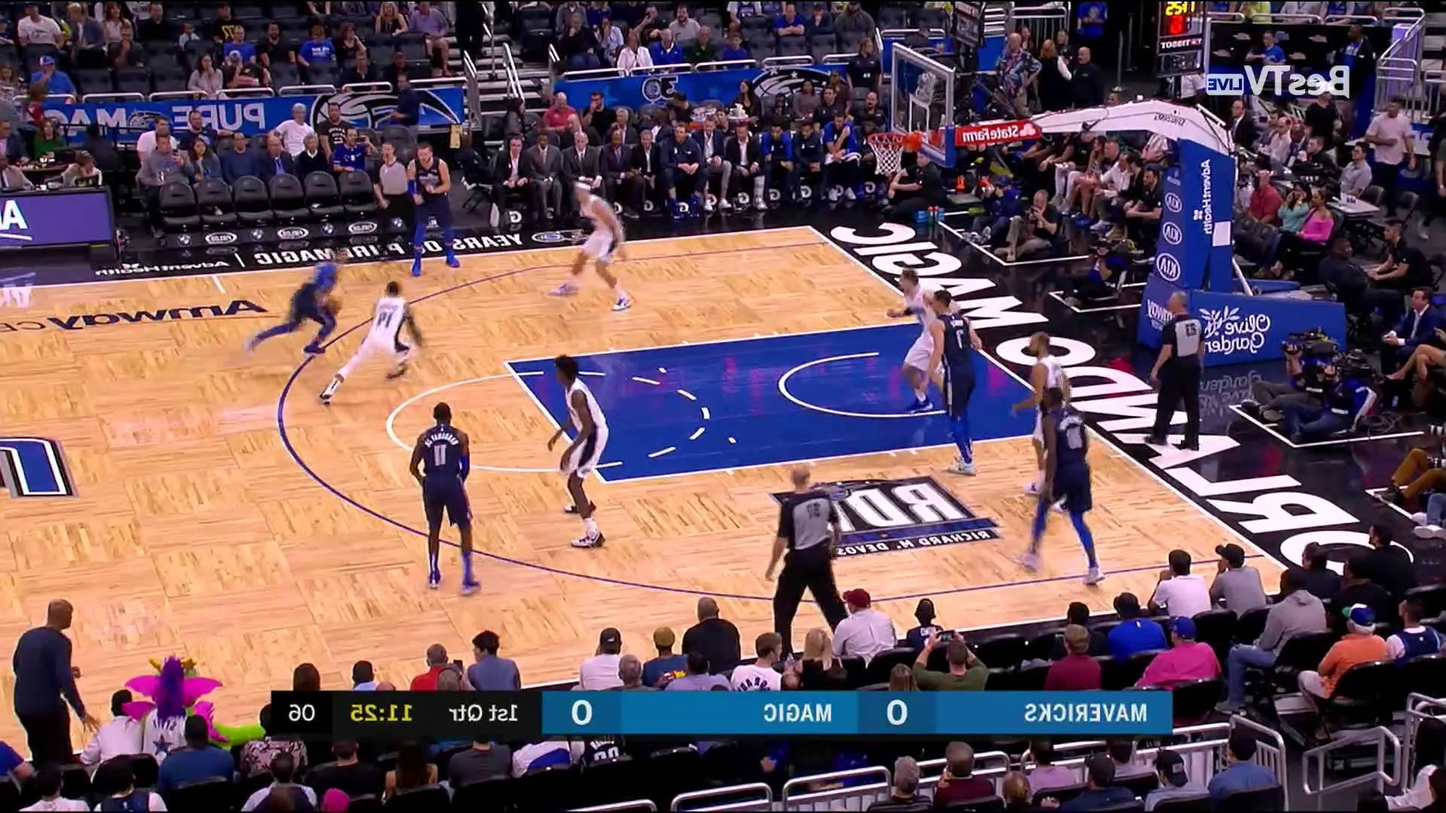basketball: (324, 292, 343, 318)
